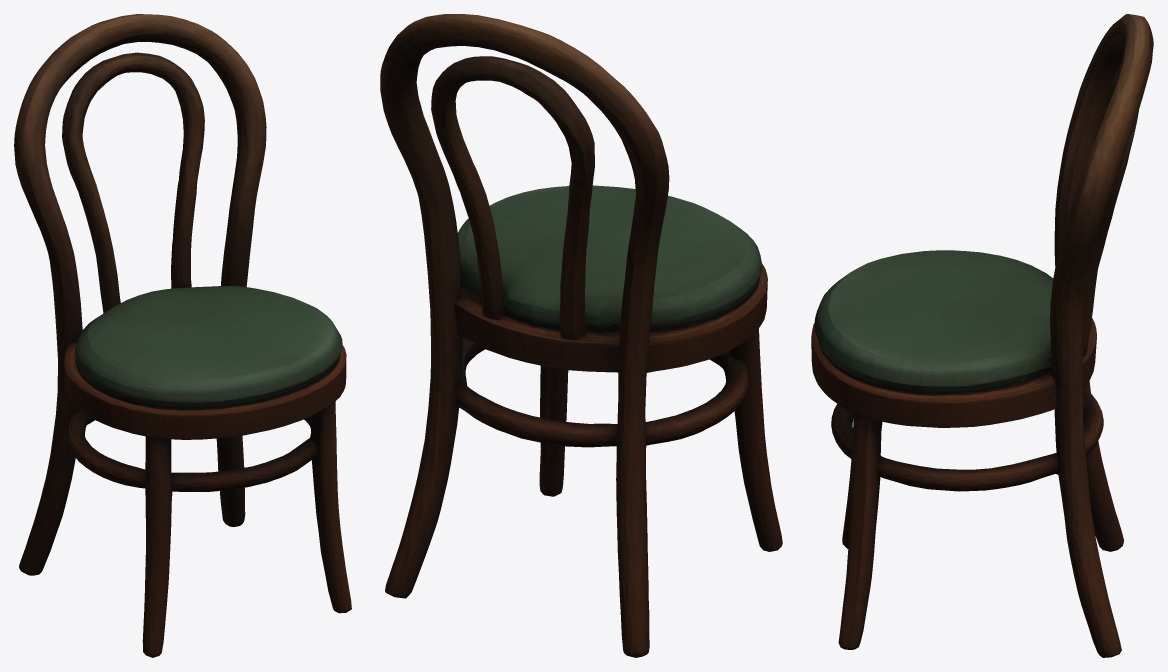
Rendered from item_chair_2.glb.
The picture shows the model from 3 angles, left to right: view 1: azimuth 30°, elevation 25°; view 2: azimuth 150°, elevation 25°; view 3: azimuth 270°, elevation 25°; orthographic projection. The views are drawn at different scales.
Parts seen in each view (by area): view 1: geometry_0; view 2: geometry_0; view 3: geometry_0.
Boxes of the visible parts, x1=… form: geometry_0: x1=14, y1=14, x2=351, y2=657; geometry_0: x1=380, y1=14, x2=782, y2=657; geometry_0: x1=811, y1=14, x2=1153, y2=657.
Size of the model in its own units: 0.4912 by 0.9996 by 0.5431.
1 material, 1 textured.
